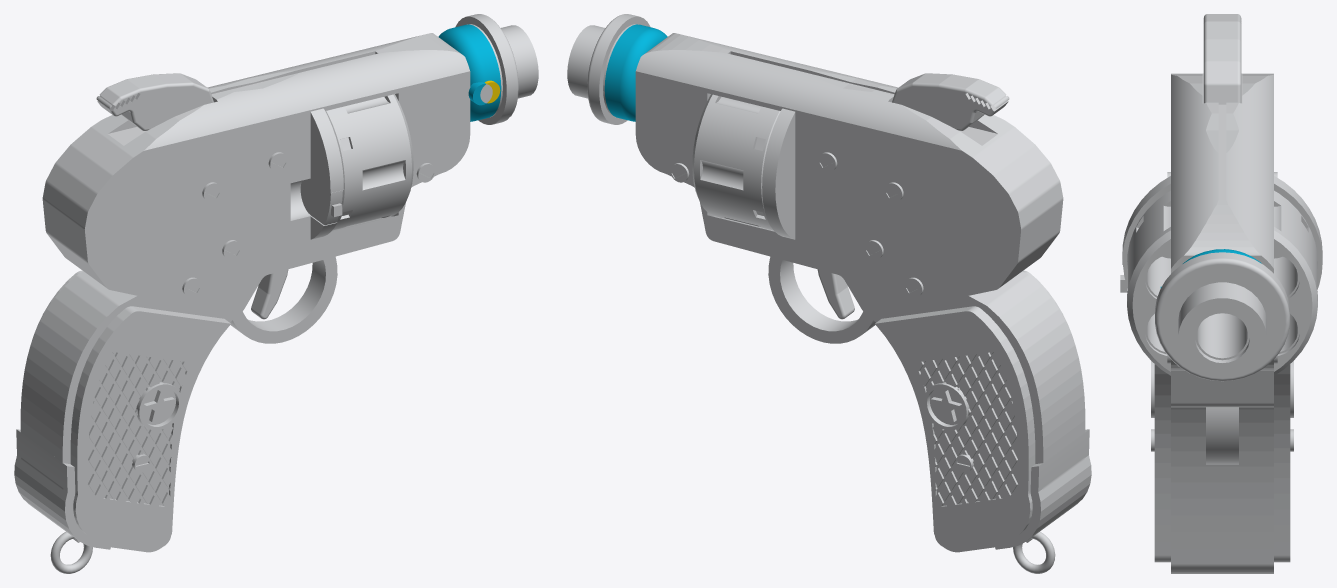
3 renders of one model, left to right at view 1: azimuth 30°, elevation 25°; view 2: azimuth 150°, elevation 25°; view 3: azimuth 270°, elevation 25°, orthographic. The views are drawn at different scales.
Parts seen in each view (by area): view 1: =>[0:1:1:2], =>[0:1:1:22], =>[0:1:1:8], =>[0:1:1:24], =>[0:1:1:27], =>[0:1:1:31], =>[0:1:1:14], =>[0:1:1:3], =>[0:1:1:29], =>[0:1:1:12], =>[0:1:1:26], =>[0:1:1:28]; view 2: =>[0:1:1:2], =>[0:1:1:20], =>[0:1:1:8], =>[0:1:1:24], =>[0:1:1:31], =>[0:1:1:27], =>[0:1:1:14], =>[0:1:1:3], =>[0:1:1:29], =>[0:1:1:26], =>[0:1:1:28]; view 3: =>[0:1:1:2], =>[0:1:1:8], =>[0:1:1:14], =>[0:1:1:29], =>[0:1:1:20], =>[0:1:1:22], =>[0:1:1:24], =>[0:1:1:13].
Boxes of the visible parts, x1,y1,x2,y2 form: =>[0:1:1:2]: (20, 33, 470, 552); =>[0:1:1:22]: (70, 306, 230, 548); =>[0:1:1:8]: (325, 94, 413, 230); =>[0:1:1:24]: (97, 73, 213, 130); =>[0:1:1:27]: (14, 429, 112, 549); =>[0:1:1:31]: (438, 24, 501, 121); =>[0:1:1:14]: (455, 14, 518, 124); =>[0:1:1:3]: (18, 460, 74, 537); =>[0:1:1:29]: (501, 25, 538, 98); =>[0:1:1:12]: (300, 178, 342, 225); =>[0:1:1:26]: (251, 269, 288, 319); =>[0:1:1:28]: (50, 532, 92, 573); =>[0:1:1:2]: (635, 33, 1085, 552); =>[0:1:1:20]: (875, 306, 1035, 548); =>[0:1:1:8]: (692, 94, 780, 230); =>[0:1:1:24]: (892, 73, 1008, 130); =>[0:1:1:31]: (604, 24, 667, 121); =>[0:1:1:27]: (993, 429, 1091, 549); =>[0:1:1:14]: (587, 14, 650, 124); =>[0:1:1:3]: (1031, 460, 1087, 537); =>[0:1:1:29]: (567, 25, 604, 98); =>[0:1:1:26]: (817, 269, 854, 319); =>[0:1:1:28]: (1013, 532, 1055, 573); =>[0:1:1:2]: (1122, 73, 1322, 573); =>[0:1:1:8]: (1127, 190, 1317, 375); =>[0:1:1:14]: (1155, 252, 1289, 381); =>[0:1:1:29]: (1178, 282, 1266, 378); =>[0:1:1:20]: (1274, 361, 1293, 562); =>[0:1:1:22]: (1151, 361, 1170, 562); =>[0:1:1:24]: (1203, 14, 1241, 104); =>[0:1:1:13]: (1195, 313, 1249, 360).
Bounding box in the file's own units: 145 × 136 × 43.38.
